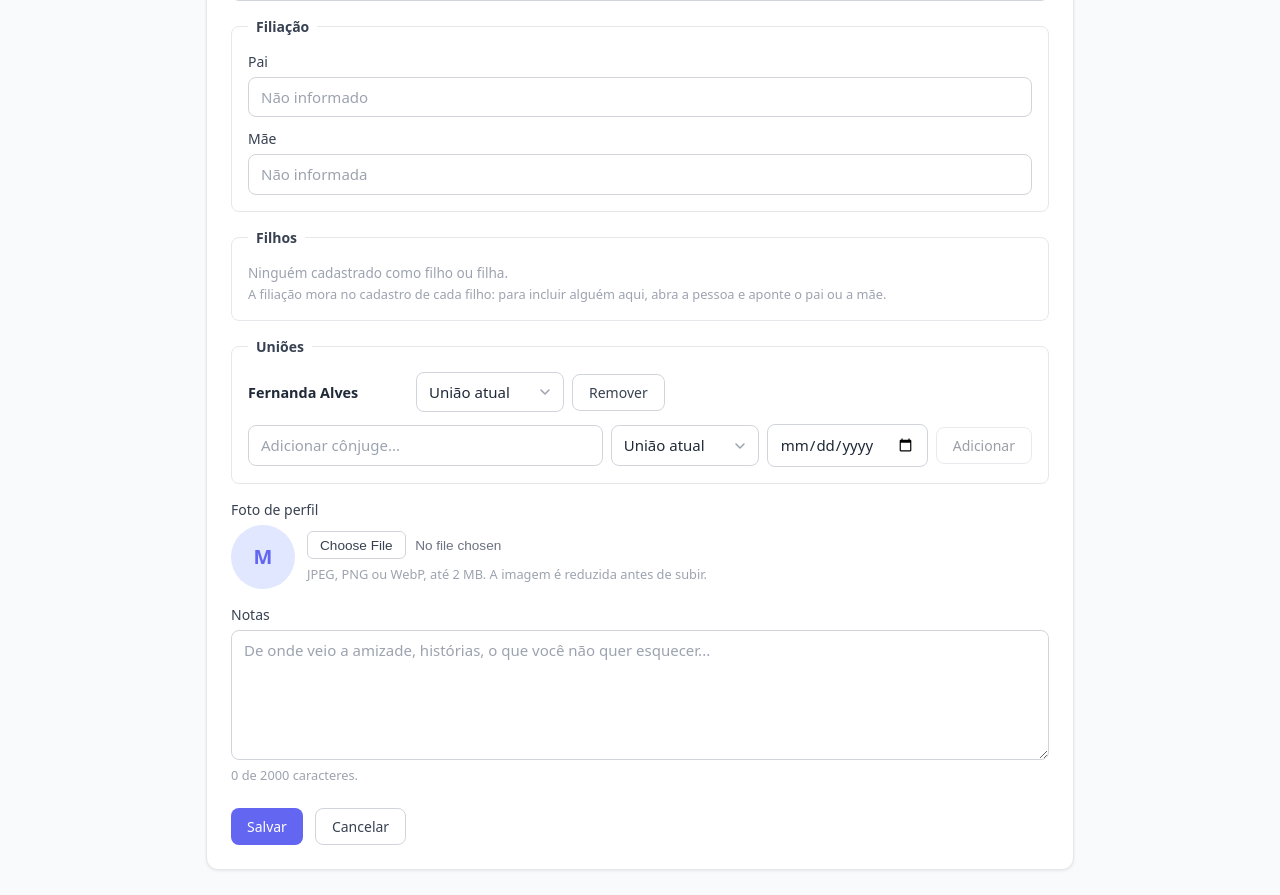
Test case: PersonFormPage — edição › registrar união recarrega a rota, e não só a seção
This screenshot has width=1280, height=895.
(page scrolled)
Click the dropdown named "Cônjuge a adicionar" at (425, 446), box [248, 425, 603, 466]
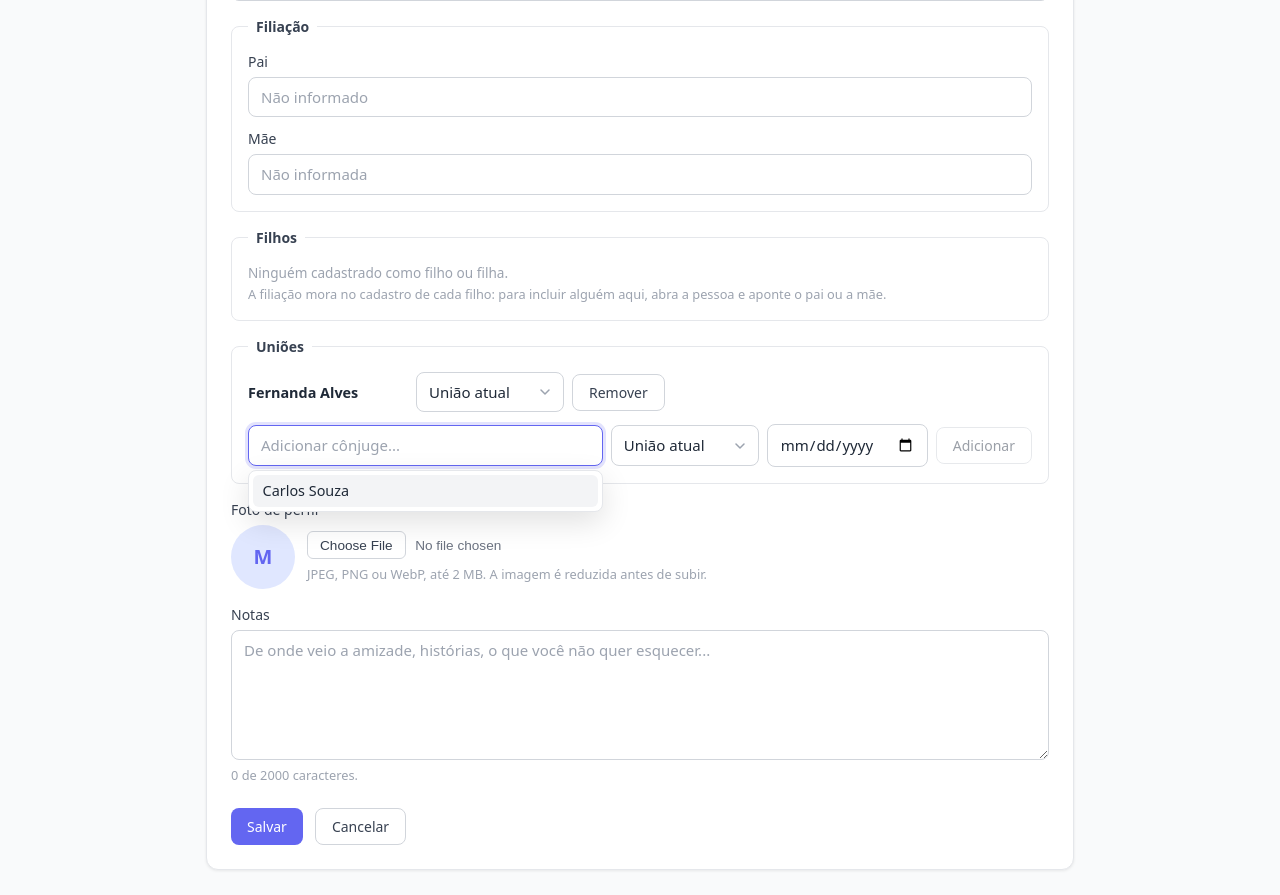
Click the option "Carlos Souza" at (306, 491), box [253, 475, 598, 507]
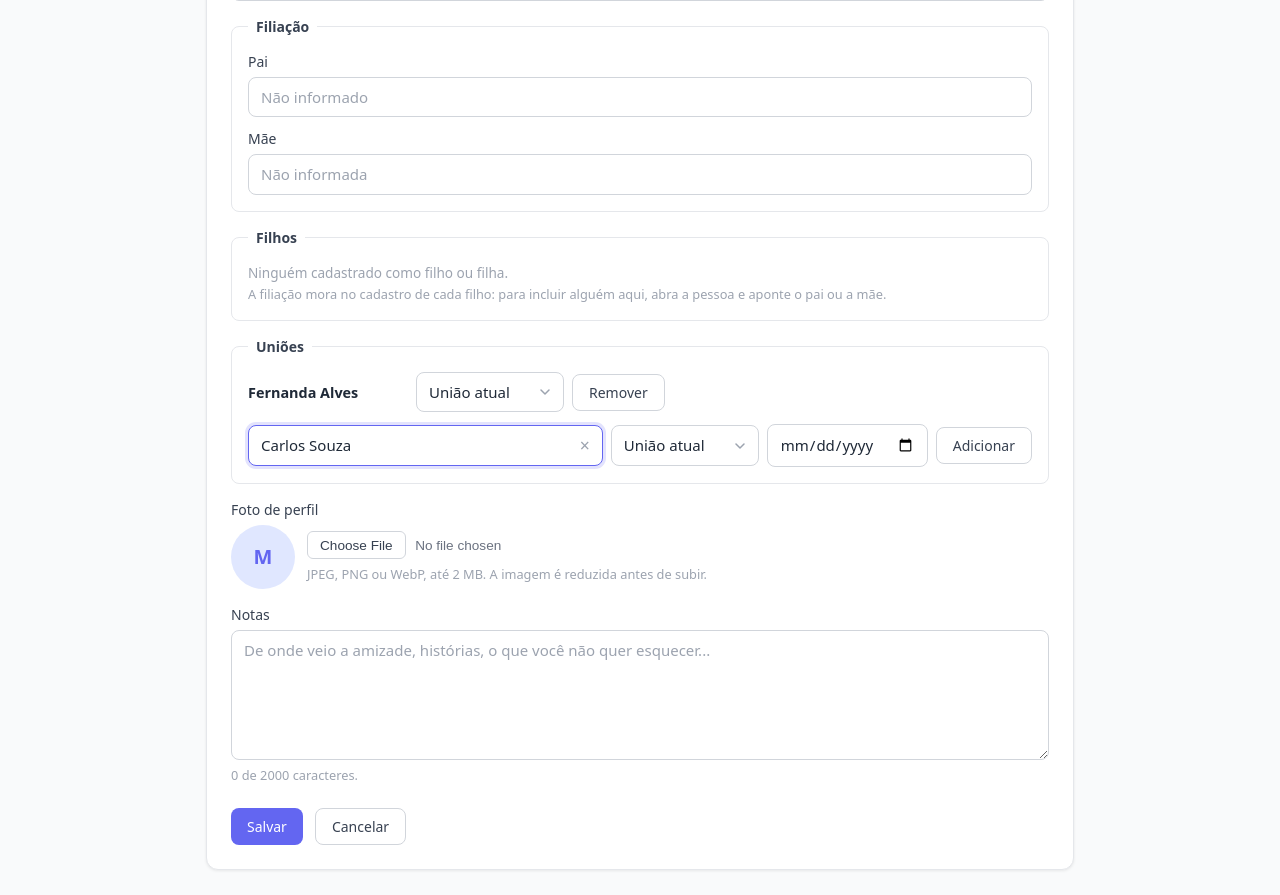
Click the button "Adicionar" at (984, 446), box [936, 427, 1032, 464]
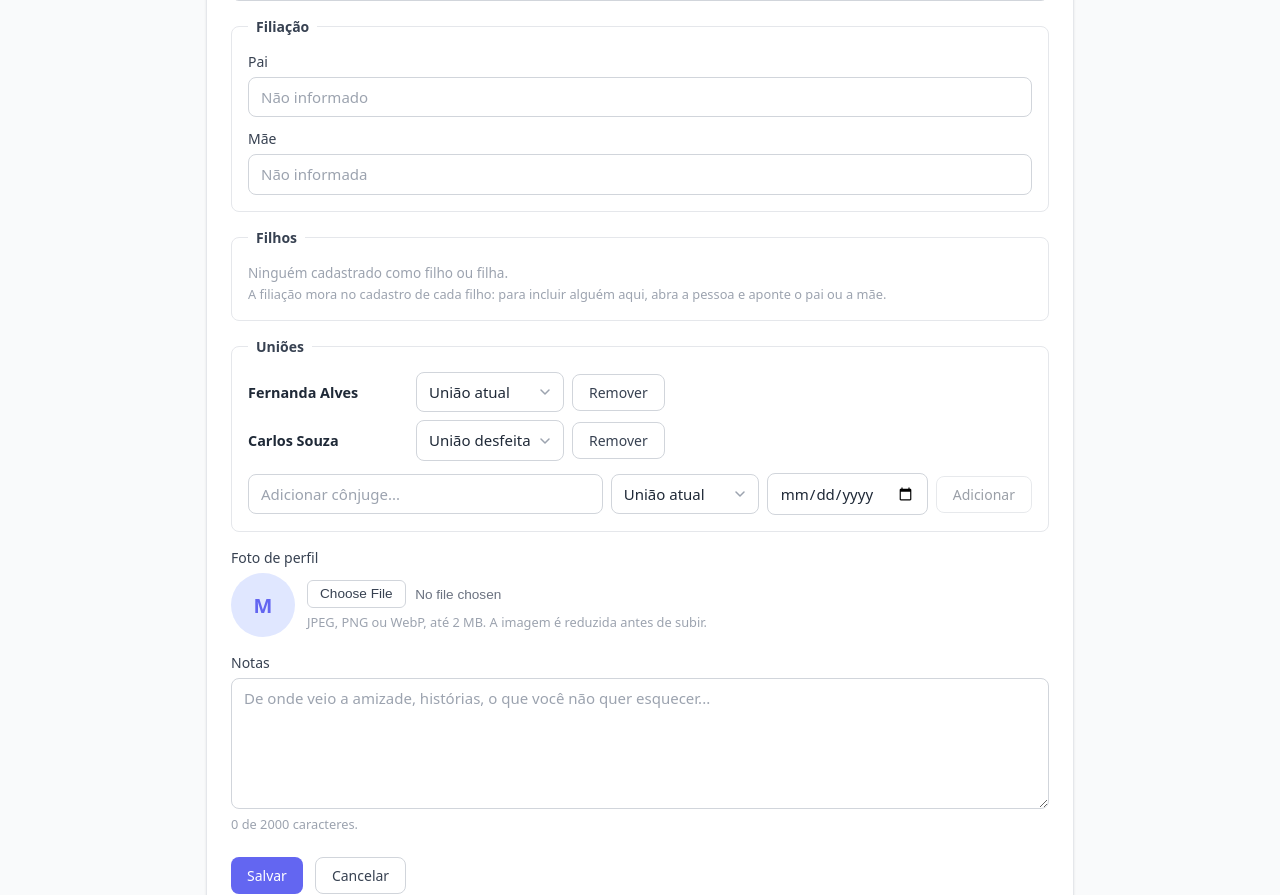
Result: the dropdown named "Situação da união com Carlos Souza" is shown at [416, 420, 564, 461]
